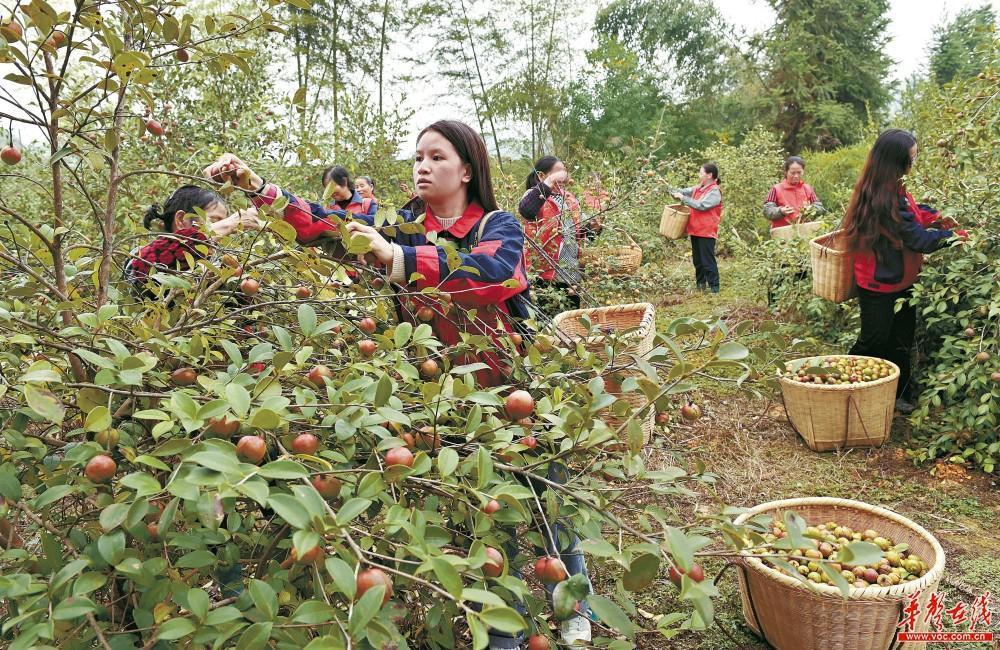apple: (354, 567, 393, 606), (532, 555, 568, 587), (309, 472, 342, 502), (85, 455, 118, 484), (236, 434, 267, 464), (288, 454, 331, 475), (506, 389, 535, 420), (481, 546, 504, 577), (289, 432, 317, 454), (384, 446, 412, 467), (356, 339, 376, 358), (422, 360, 437, 377)
